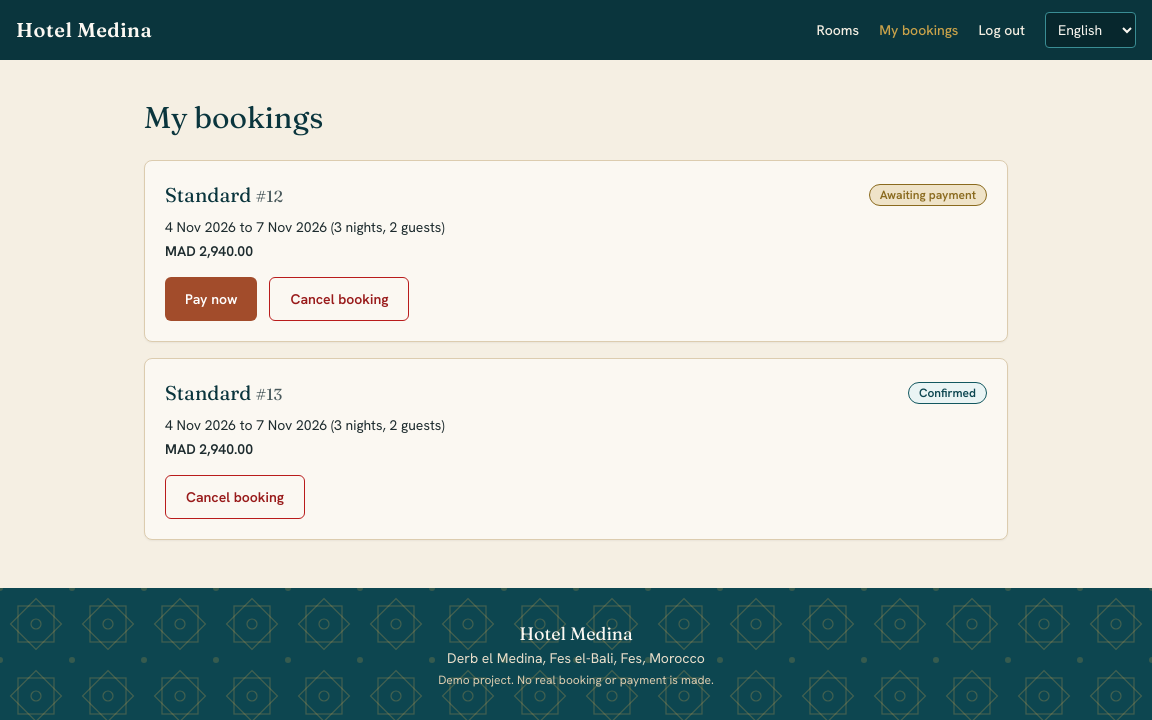
my bookings › lists bookings with badges, links PENDING to pay, and cancels after confirmation
Check: the text "Awaiting payment" is shown, box [869,184,987,206]
Click the button "Cancel booking" below "13" at x=235, y=497, box [165,475,305,519]
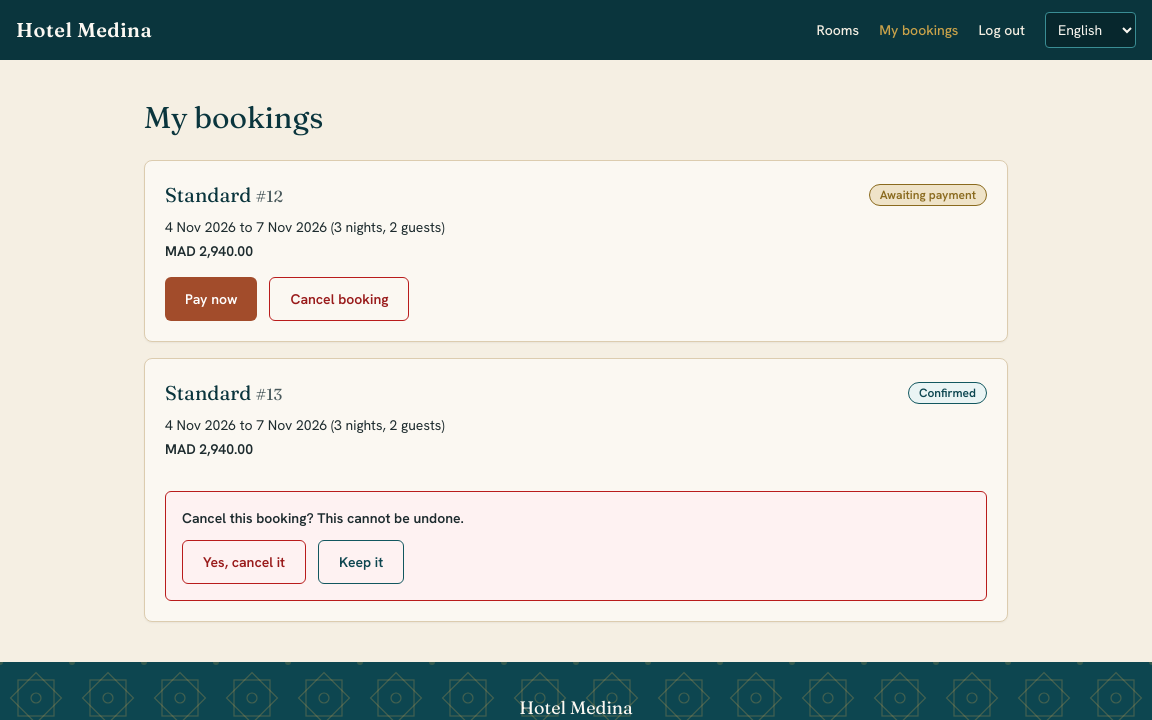
Click the button "Yes, cancel it" at x=244, y=562, box [182,540,306,584]
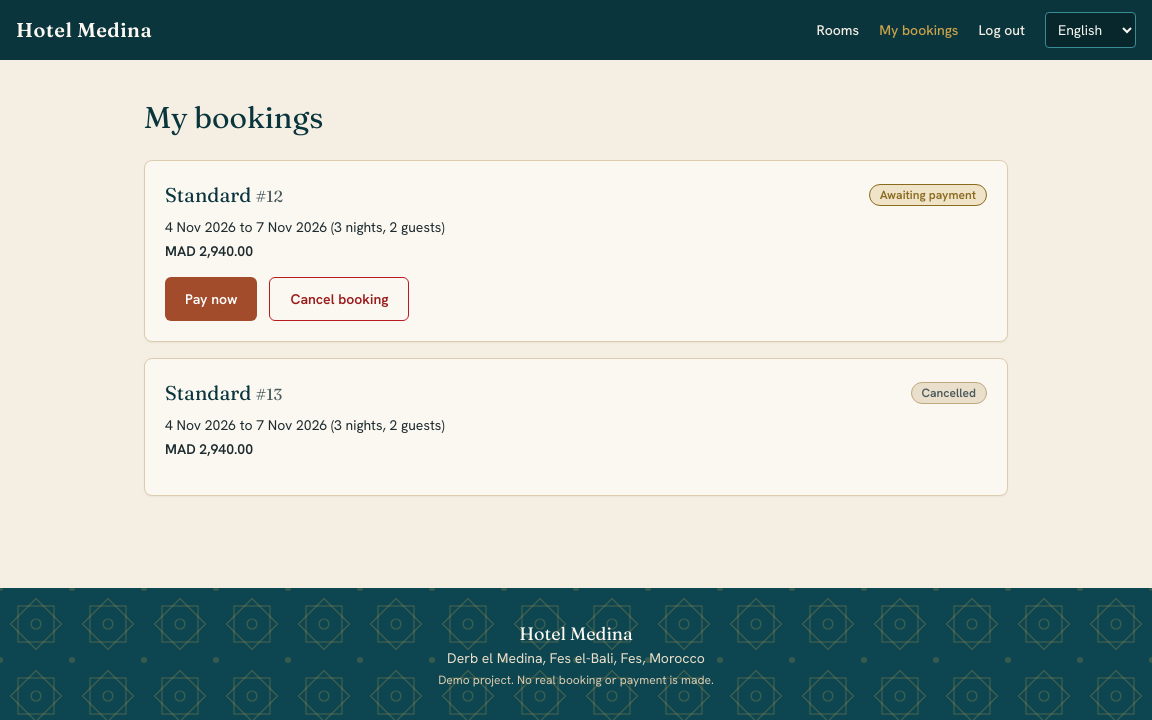
Check: the text "Cancelled" is shown, box [910,382,987,404]
